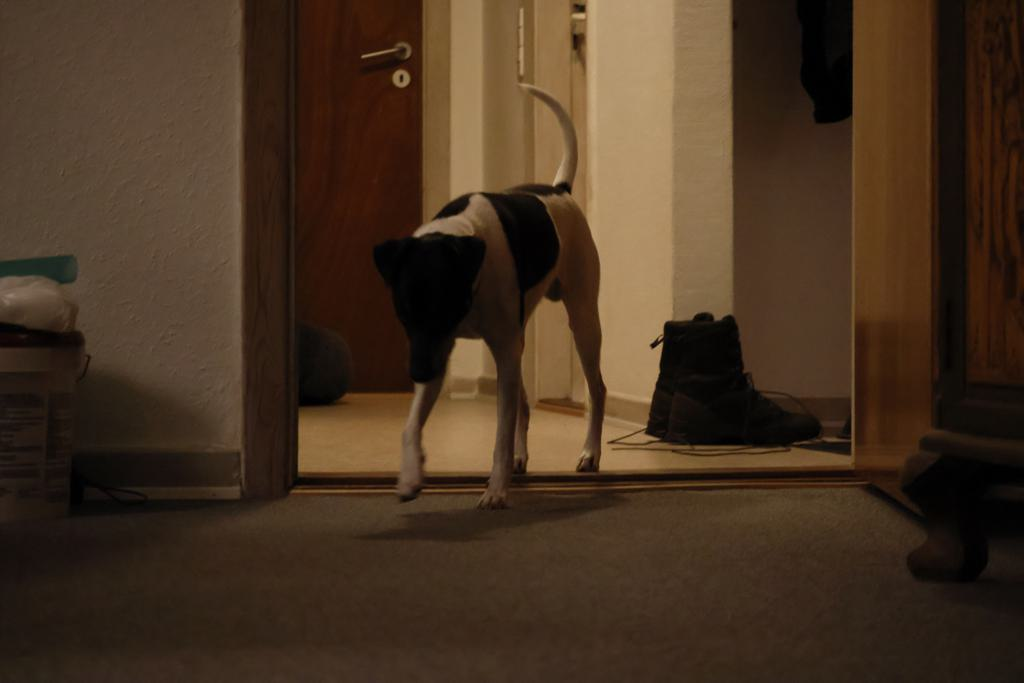Dog: (362, 69, 614, 520)
